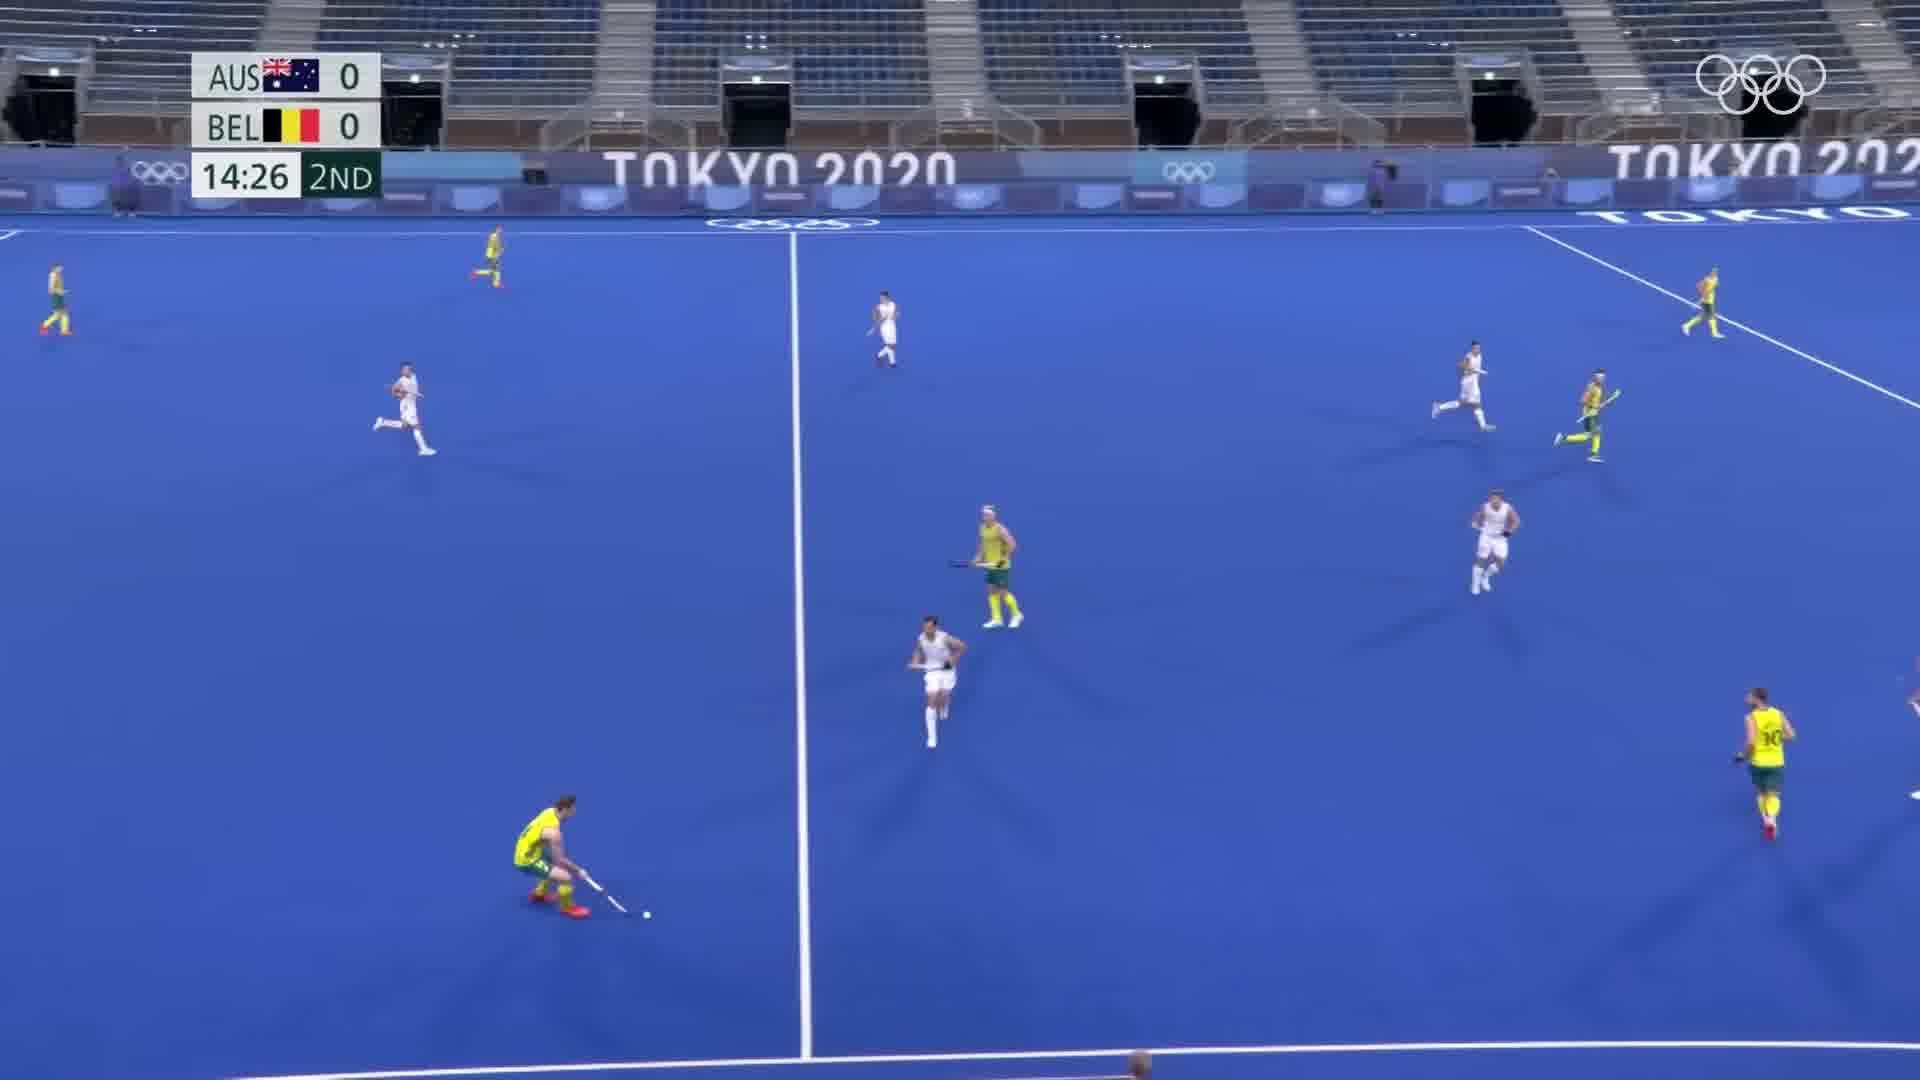ball: (640, 902, 657, 928)
